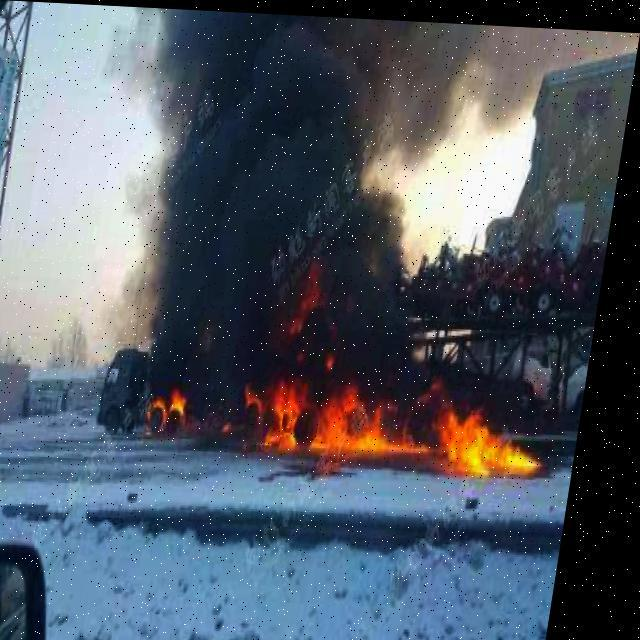Fire: (248, 344, 570, 472), (157, 368, 202, 434)
